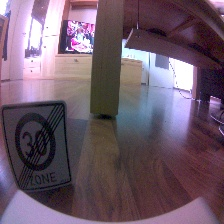dreisiger_zone_ende: (1, 100, 75, 192)
